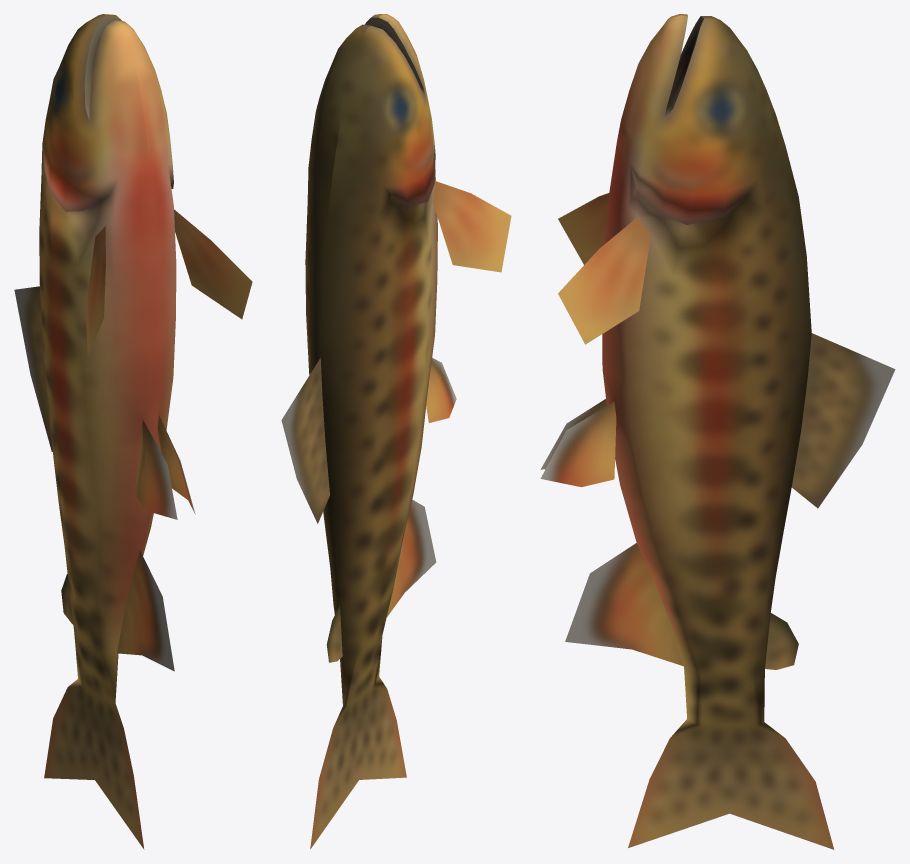
The model's file is golden-trout.glb.
The picture shows the model from 3 angles, left to right: view 1: azimuth 30°, elevation 25°; view 2: azimuth 150°, elevation 25°; view 3: azimuth 270°, elevation 25°; orthographic projection. The views are drawn at different scales.
Visible parts, largest first — view 1: FishGoldenTorauto__mGoldenTorauto; view 2: FishGoldenTorauto__mGoldenTorauto; view 3: FishGoldenTorauto__mGoldenTorauto.
Boxes of the visible parts, box(x1,y1,x2,y2) form: FishGoldenTorauto__mGoldenTorauto: box(14, 14, 252, 849); FishGoldenTorauto__mGoldenTorauto: box(281, 14, 511, 849); FishGoldenTorauto__mGoldenTorauto: box(540, 14, 895, 849).
Size of the model in its own units: 0.1579 by 0.7919 by 0.3053.
Materials: 1 (1 with a texture image).
